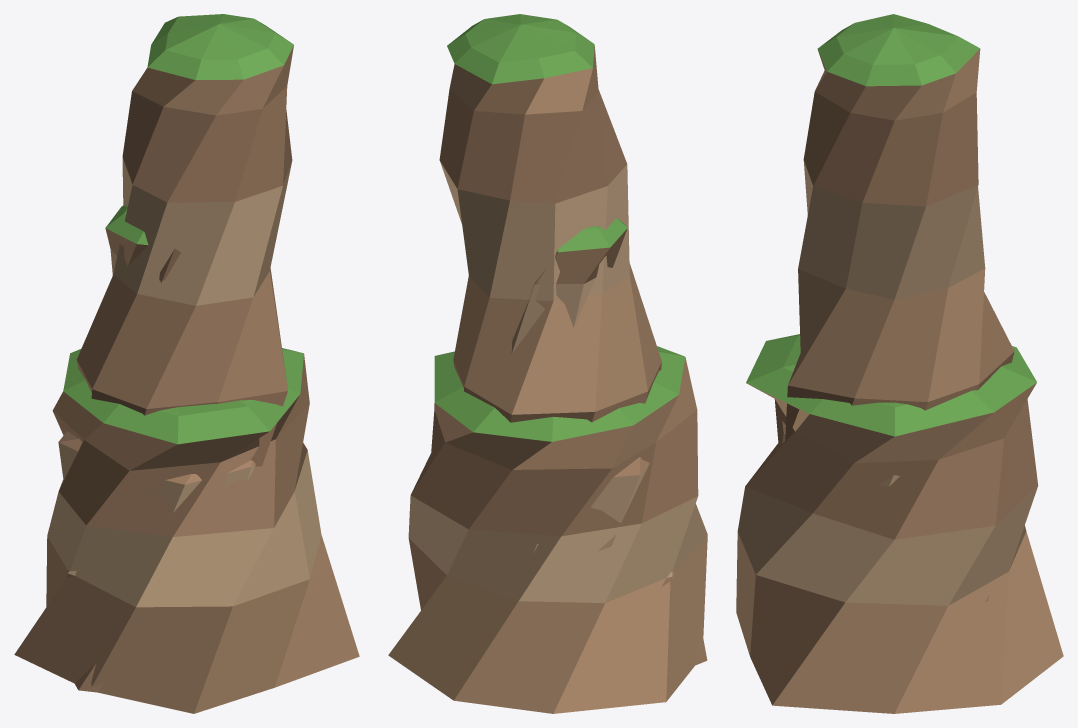
Rendered from cliffs.glb.
3 renders of one model, left to right at view 1: azimuth 30°, elevation 25°; view 2: azimuth 150°, elevation 25°; view 3: azimuth 270°, elevation 25°, orthographic. The views are drawn at different scales.
Visible parts, largest first — view 1: Spire_C, Spire_A, Spire_B; view 2: Spire_C, Spire_A, Spire_B; view 3: Spire_C, Spire_A.
Boxes of the visible parts, left/top/right/bottom form: Spire_C: left=14, top=348, right=359, bottom=713; Spire_A: left=67, top=14, right=293, bottom=692; Spire_B: left=58, top=205, right=255, bottom=512; Spire_C: left=388, top=346, right=707, bottom=713; Spire_A: left=439, top=14, right=707, bottom=665; Spire_B: left=441, top=218, right=649, bottom=582; Spire_C: left=736, top=334, right=1063, bottom=713; Spire_A: left=785, top=14, right=1014, bottom=441.
Bounding box in the file's own units: 17.64 × 37.6 × 17.55.
